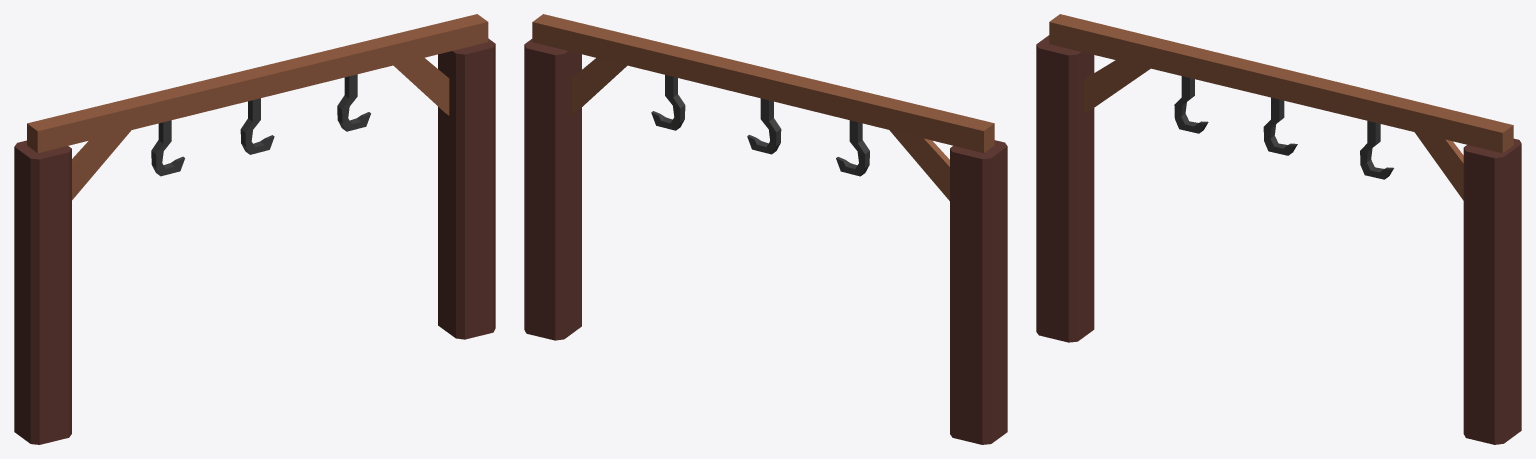
The model's file is pillars_for_cow_carcass.fbx.
The picture shows the model from 3 angles, left to right: view 1: azimuth 30°, elevation 25°; view 2: azimuth 150°, elevation 25°; view 3: azimuth 330°, elevation 25°; orthographic projection.
Parts seen in each view (by area): view 1: pillars_for_cow_carcass.001; view 2: pillars_for_cow_carcass.001; view 3: pillars_for_cow_carcass.001.
Boxes of the visible parts, left/top/right/bottom form: pillars_for_cow_carcass.001: left=14, top=14, right=495, bottom=444; pillars_for_cow_carcass.001: left=524, top=14, right=1007, bottom=444; pillars_for_cow_carcass.001: left=1036, top=14, right=1521, bottom=444.
Bounding box in the file's own units: 189 × 120 × 17.56.
